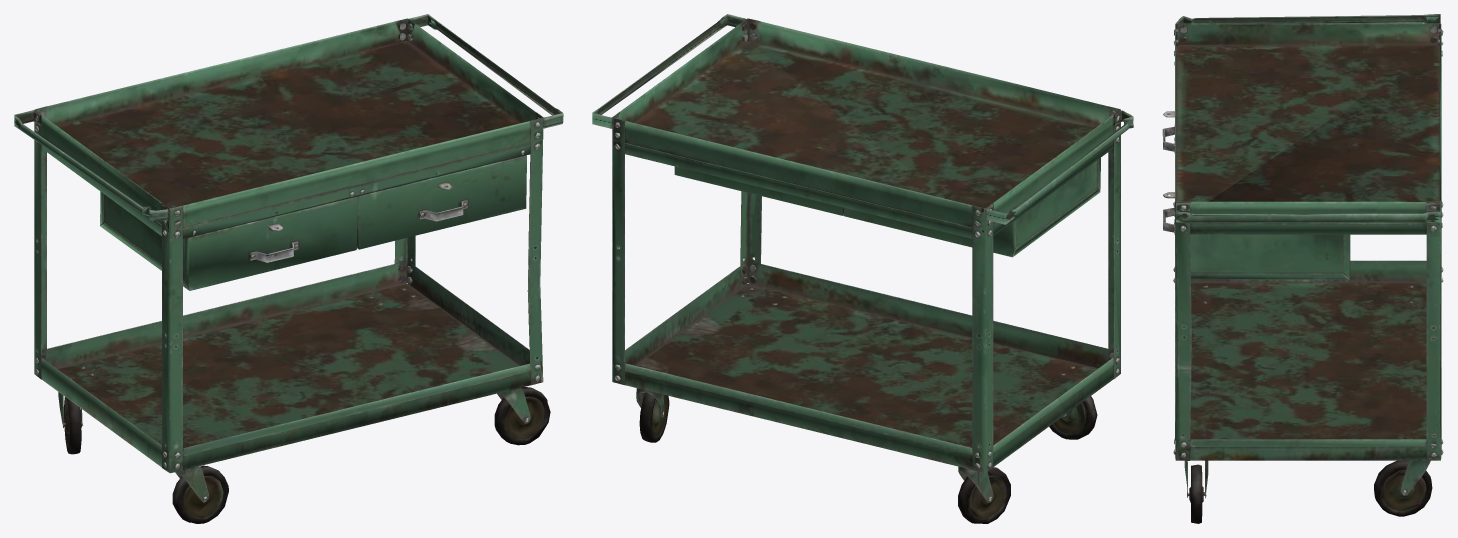
Rendered from tool_cart.glb.
3 renders of one model, left to right at view 1: azimuth 30°, elevation 25°; view 2: azimuth 150°, elevation 25°; view 3: azimuth 270°, elevation 25°, orthographic. The views are drawn at different scales.
Parts seen in each view (by area): view 1: tool_cart; view 2: tool_cart; view 3: tool_cart.
Part boxes in pixels (box(x1,y1,x2,y2)): tool_cart: box(14, 14, 563, 523); tool_cart: box(592, 14, 1133, 523); tool_cart: box(1162, 14, 1443, 523).
Size of the model in its own units: 1.27 by 0.9646 by 0.7536.
1 material, 1 textured.
